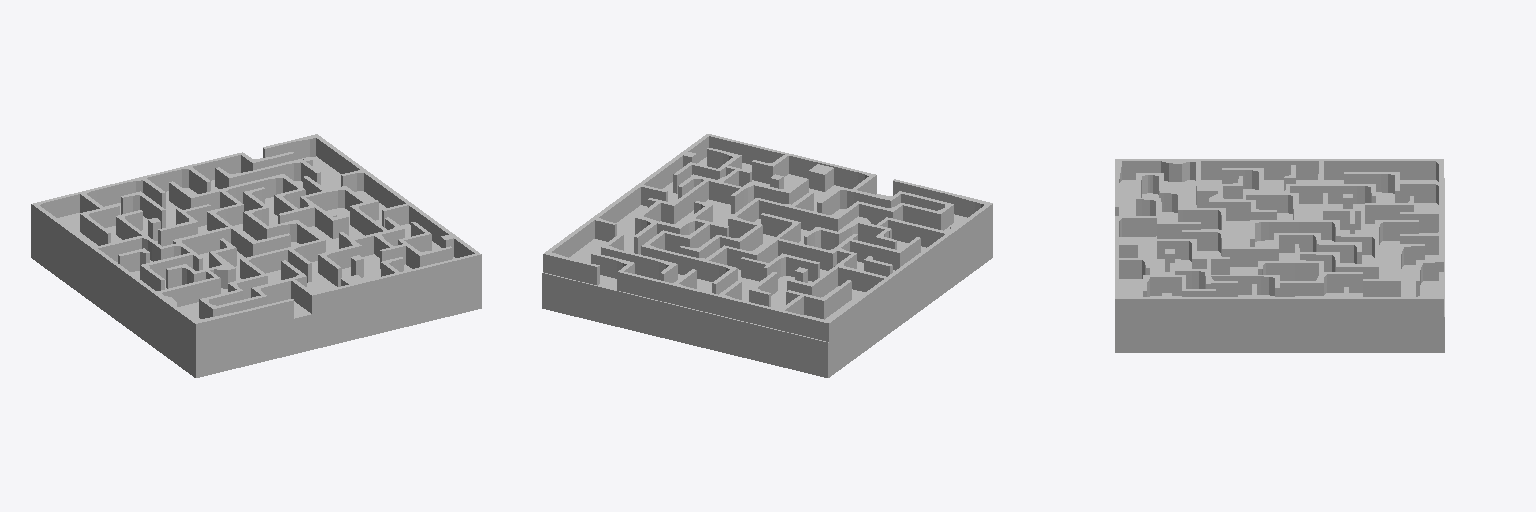
File: newMaze.obj
The picture shows the model from 3 angles: view 1: azimuth 30°, elevation 25°; view 2: azimuth 150°, elevation 25°; view 3: azimuth 270°, elevation 25°; orthographic projection.
Visible parts, largest first — view 1: group[number redacted], group[number redacted], group[number redacted], group[number redacted], group[number redacted], group[number redacted], group[number redacted], group[number redacted], group[number redacted], group[number redacted], group[number redacted], group[number redacted] (+28 smaller); view 2: group[number redacted], group[number redacted], group[number redacted], group[number redacted], group[number redacted], group[number redacted], group[number redacted], group[number redacted], group[number redacted], group[number redacted], group[number redacted], group[number redacted] (+28 smaller); view 3: group[number redacted], group[number redacted], group[number redacted], group[number redacted], group[number redacted], group[number redacted], group[number redacted], group[number redacted], group[number redacted], group[number redacted], group[number redacted], group[number redacted] (+28 smaller).
Boxes of the visible parts, x1,y1,x2,y2 form: group[number redacted]: [31, 156, 481, 377]; group[number redacted]: [291, 253, 478, 313]; group[number redacted]: [31, 193, 156, 309]; group[number redacted]: [176, 299, 293, 342]; group[number redacted]: [341, 169, 481, 272]; group[number redacted]: [263, 134, 363, 173]; group[number redacted]: [152, 277, 219, 327]; group[number redacted]: [80, 204, 119, 245]; group[number redacted]: [142, 166, 210, 193]; group[number redacted]: [231, 226, 290, 257]; group[number redacted]: [140, 252, 194, 290]; group[number redacted]: [93, 235, 164, 261]; group[number redacted]: [542, 157, 992, 377]; group[number redacted]: [782, 234, 949, 341]; group[number redacted]: [708, 134, 876, 194]; group[number redacted]: [591, 134, 708, 241]; group[number redacted]: [543, 219, 599, 285]; group[number redacted]: [893, 179, 992, 234]; group[number redacted]: [885, 217, 974, 252]; group[number redacted]: [848, 237, 920, 270]; group[number redacted]: [672, 269, 720, 313]; group[number redacted]: [786, 280, 851, 319]; group[number redacted]: [619, 272, 672, 303]; group[number redacted]: [790, 203, 859, 231]; group[number redacted]: [1115, 178, 1444, 352]; group[number redacted]: [1115, 287, 1348, 316]; group[number redacted]: [1201, 159, 1443, 181]; group[number redacted]: [1346, 272, 1443, 316]; group[number redacted]: [1115, 216, 1158, 296]; group[number redacted]: [1226, 233, 1278, 266]; group[number redacted]: [1211, 275, 1279, 296]; group[number redacted]: [1155, 159, 1200, 204]; group[number redacted]: [1344, 172, 1399, 202]; group[number redacted]: [1115, 159, 1160, 215]; group[number redacted]: [1324, 184, 1375, 203]; group[number redacted]: [1400, 182, 1443, 204].
Bounding box in the file's own units: 2.26 × 0.41 × 2.26.